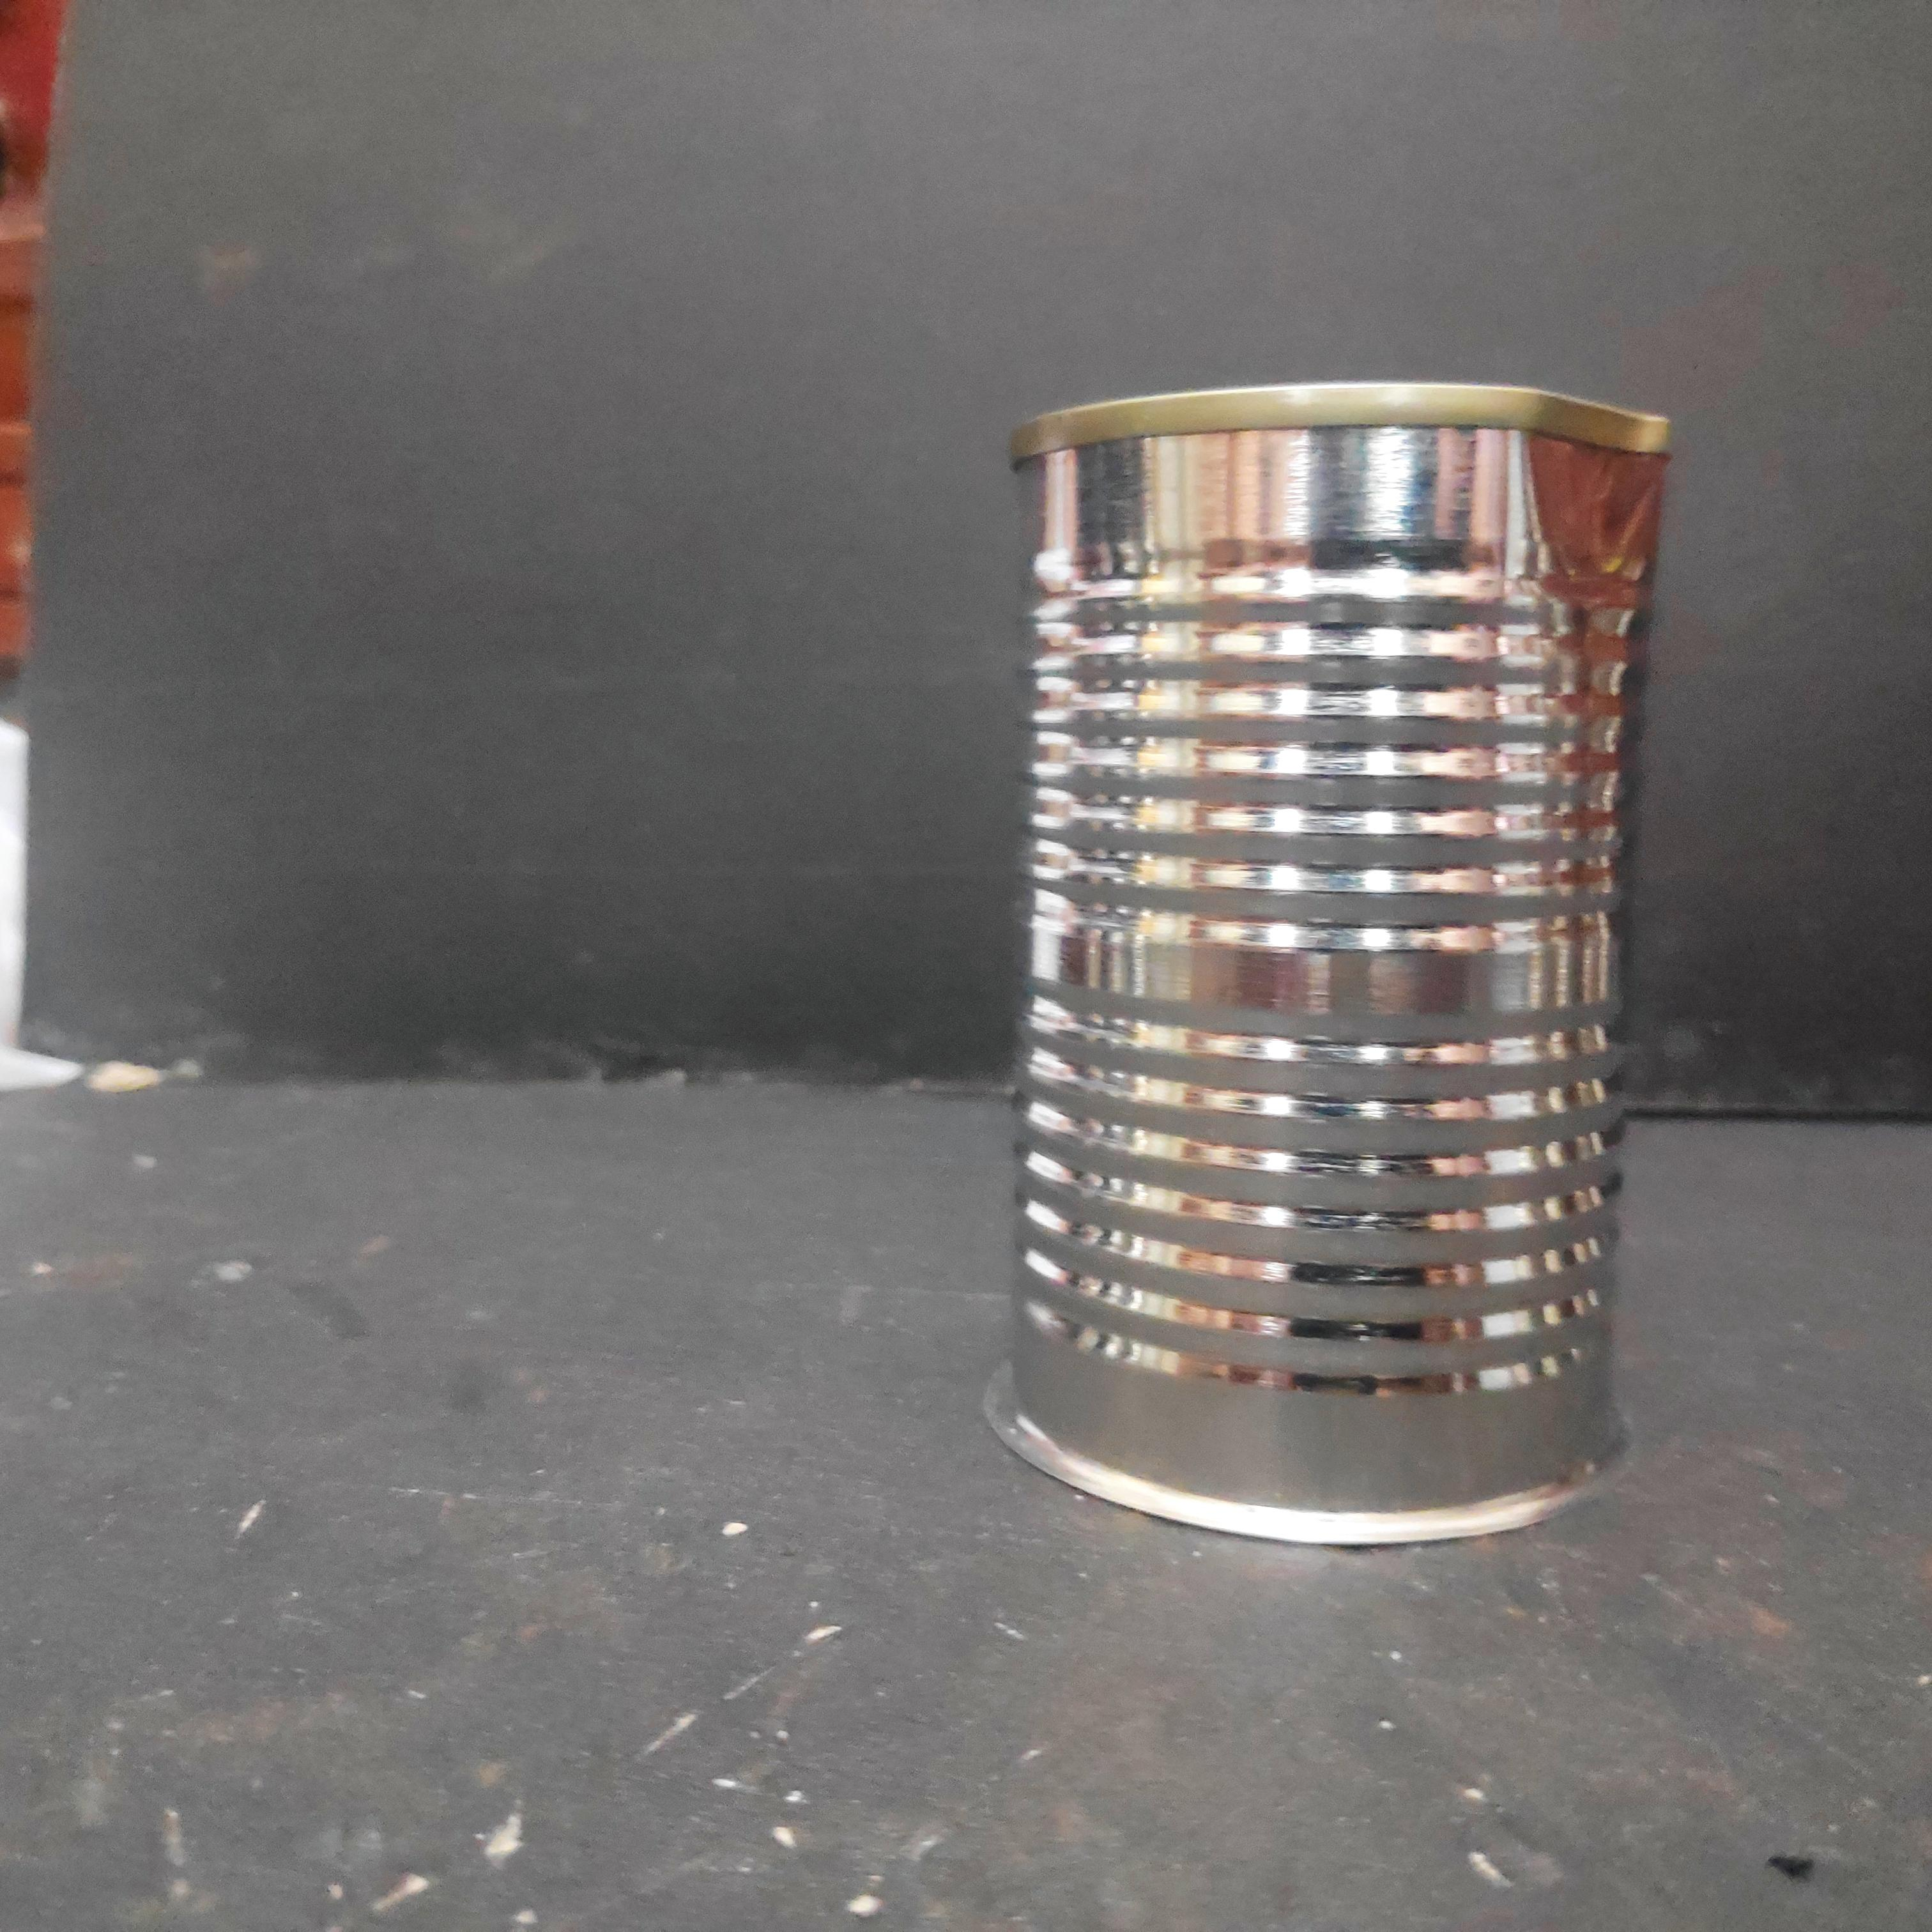Minor Defect: (998, 372, 1688, 1555)
